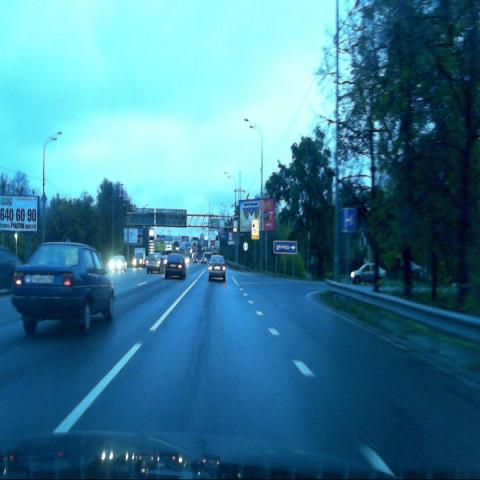6_8_2: (340, 207, 357, 232)
